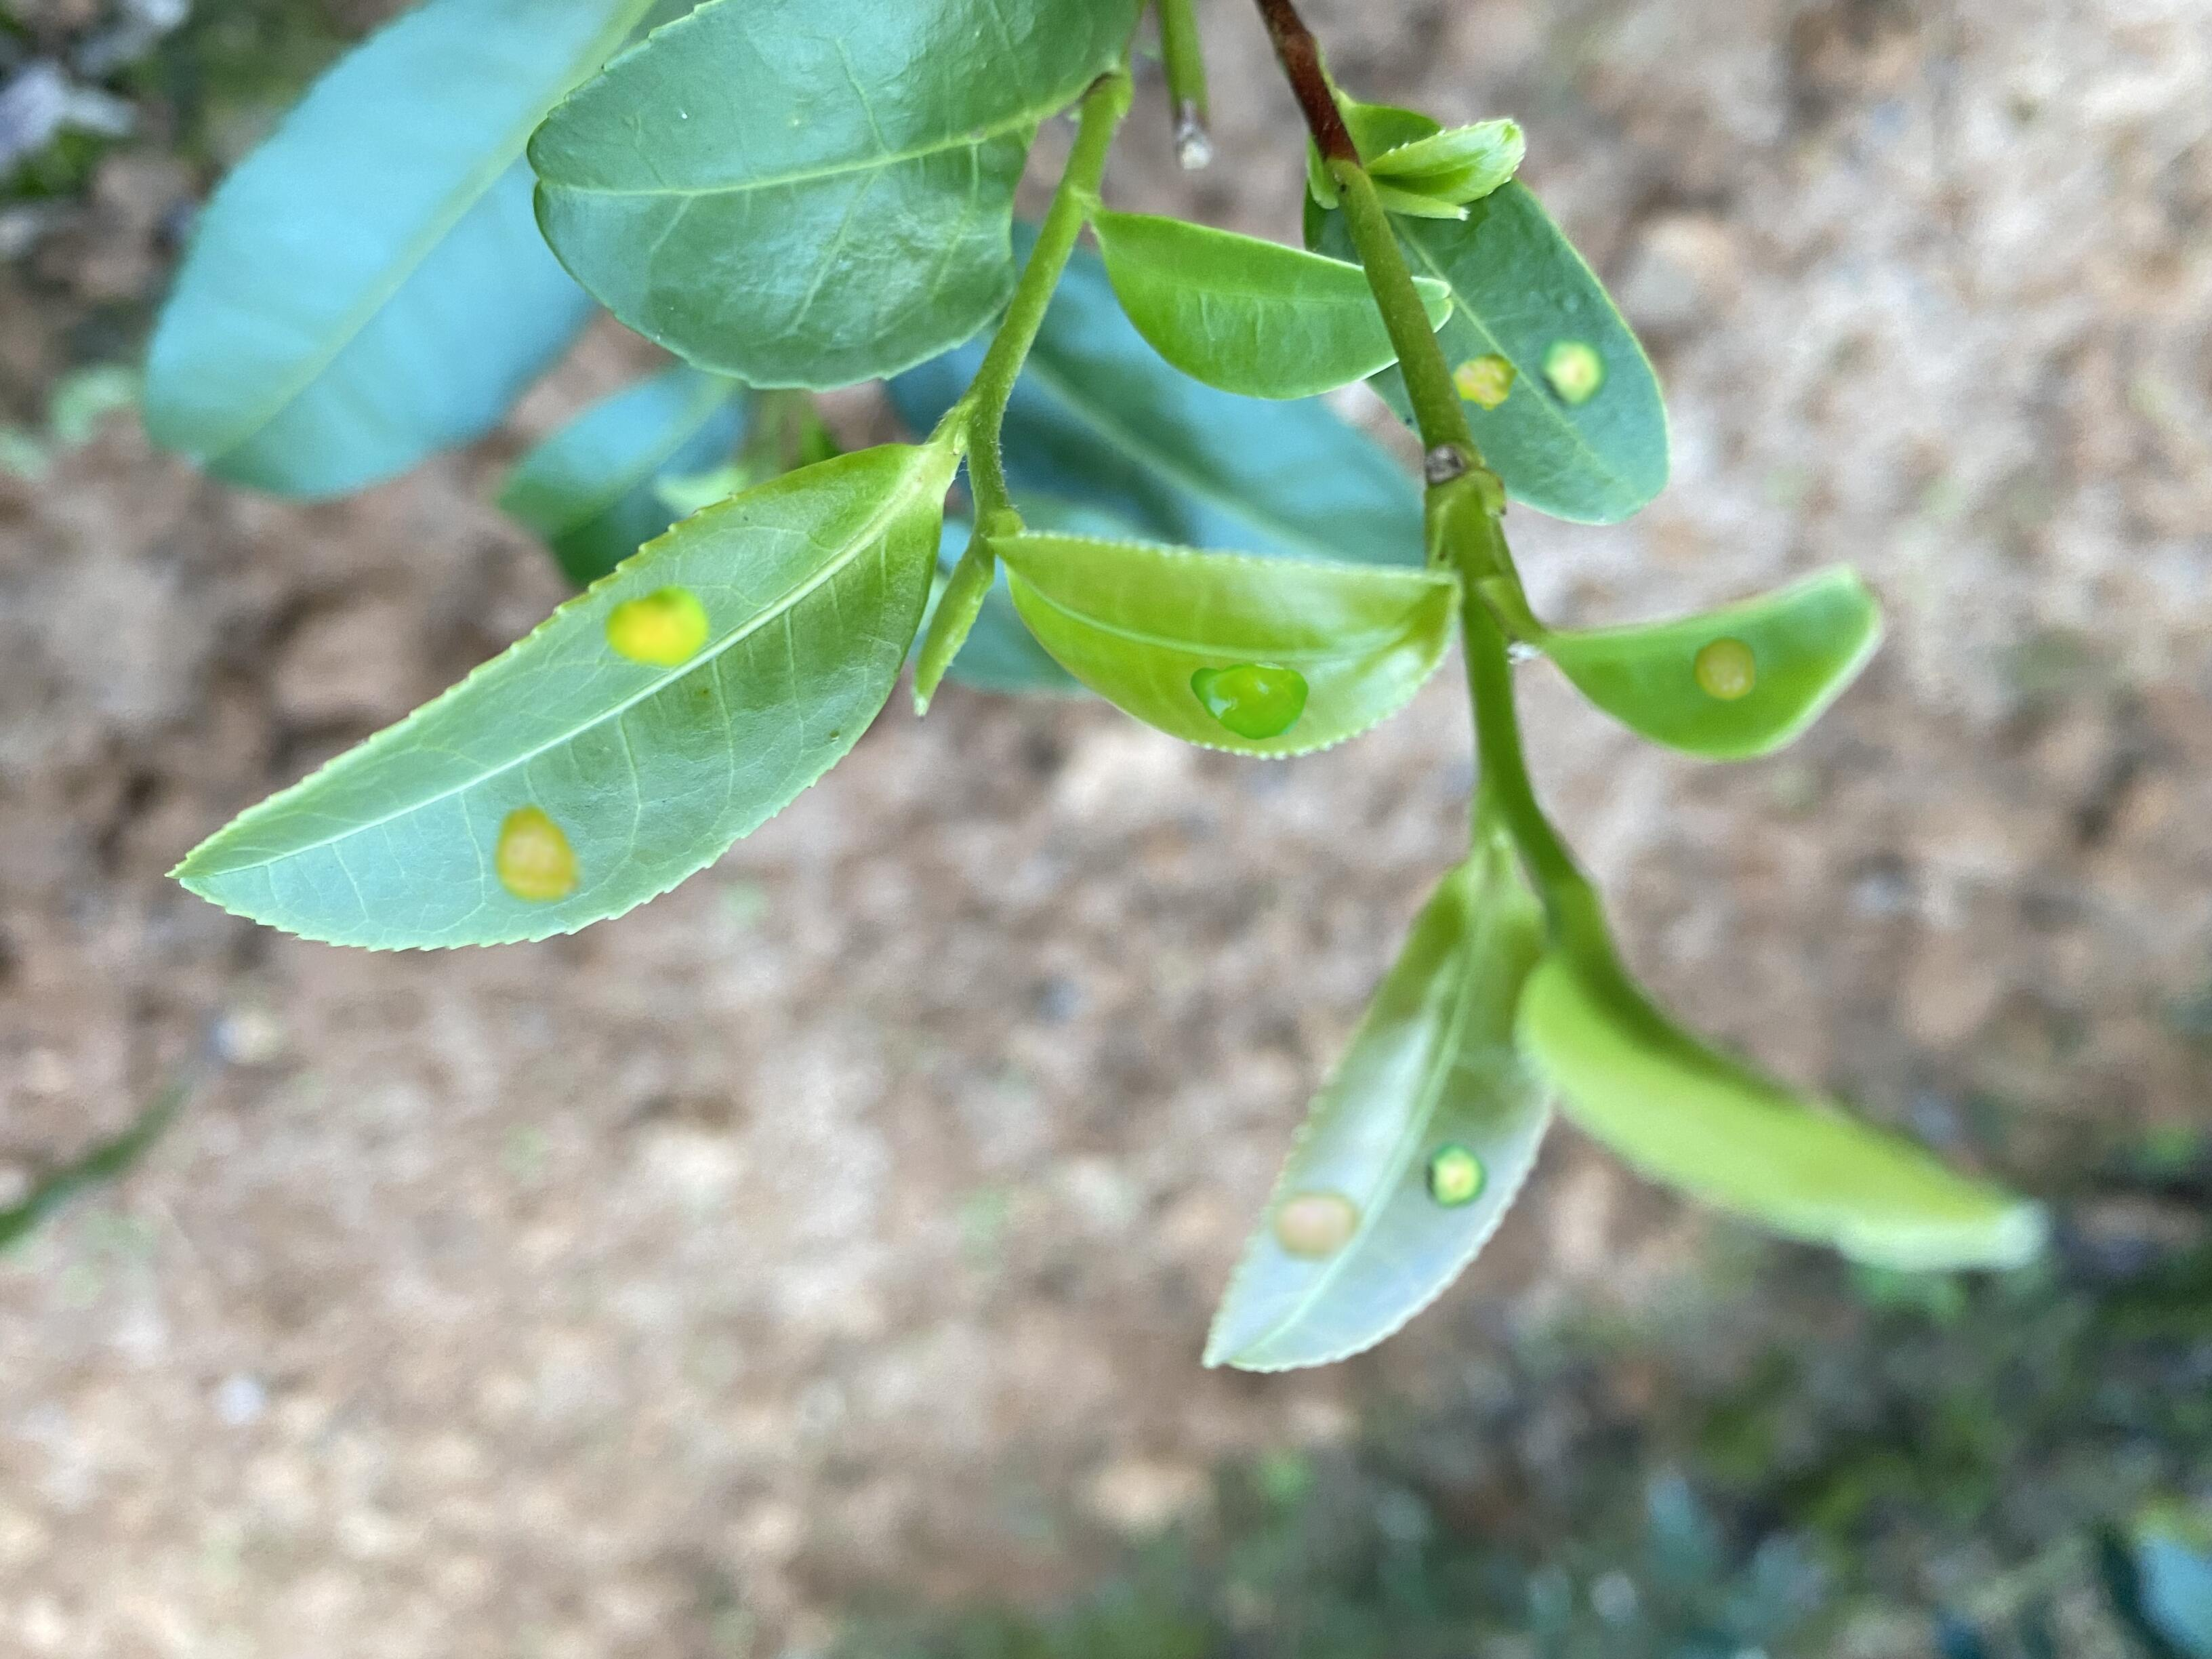chabing_high: (164, 443, 946, 951), (1200, 849, 1555, 1375)
chabing_low: (986, 530, 1463, 760), (1543, 561, 1890, 763)
healthy: (1092, 213, 1458, 403)
